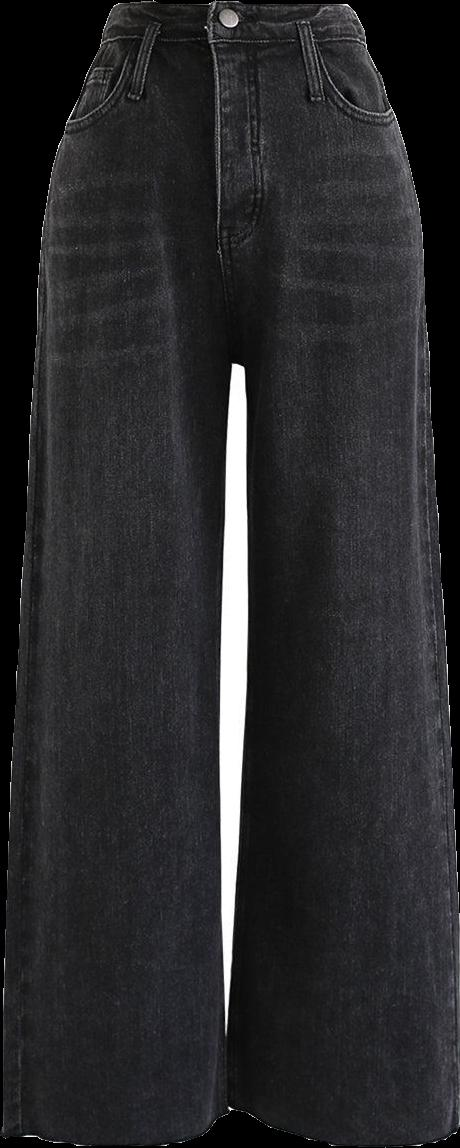Hemline: (225, 1094, 459, 1147), (3, 1094, 230, 1146)
Pantleg: (202, 1, 459, 1145), (3, 0, 234, 1143)
Waistline: (114, 0, 352, 28), (95, 33, 372, 55)
